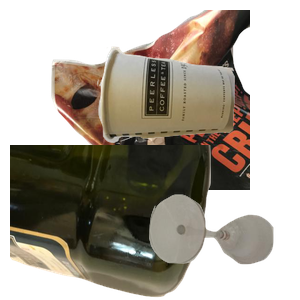glass: (147, 192, 300, 300)
paper: (49, 10, 289, 190)
plastic: (10, 145, 213, 300)
trash: (95, 44, 300, 180)
